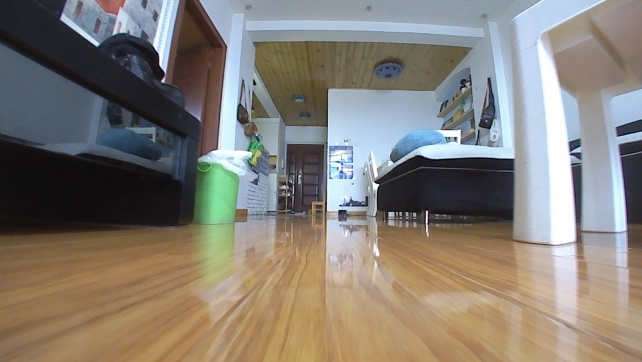TV_stand1: (0, 0, 205, 234)
door_anno: (284, 142, 325, 214)
sofa1: (370, 114, 641, 226)
